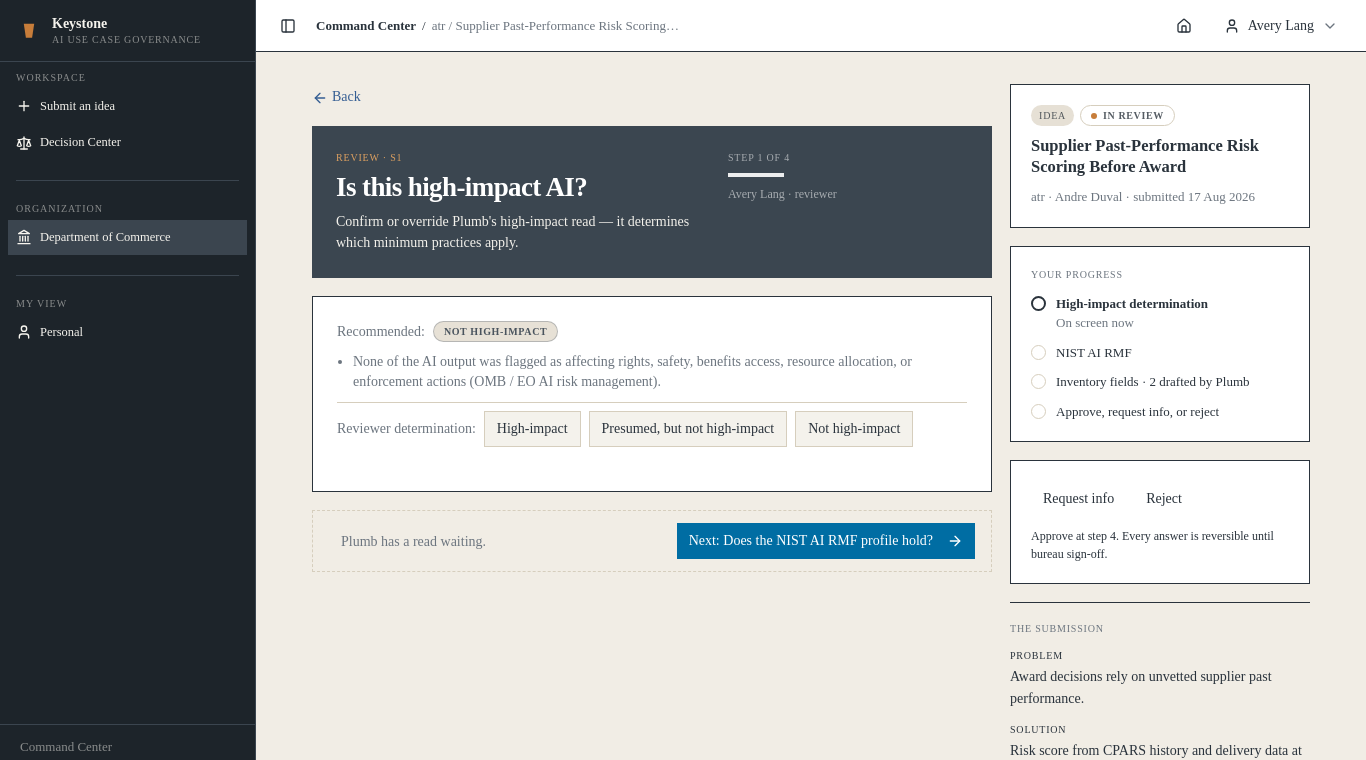
Scenario: /submissions/[id] — governance field counts (RD-8, issue #218) › counts drafted-by-Plumb fields from Plumb's live proposal, non-zero even before any reviewer save
Click the button "Inventory fields · 2 drafted by Plumb".
click(1160, 382)  # box [1031,372,1289,392]
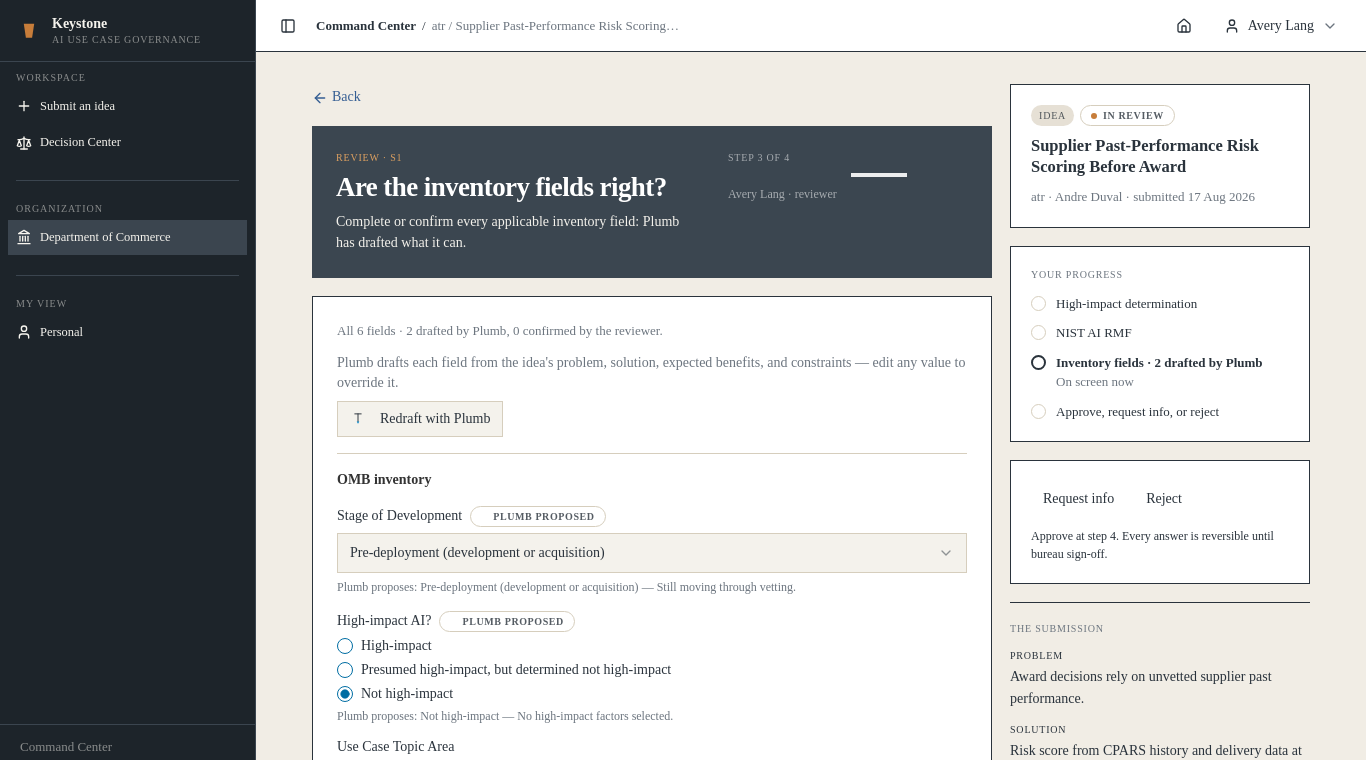
Expected: the text "Inventory fields · 2 drafted by Plumb" is shown, [1056,355,1263,370]
Result: the text "Are the inventory fields right?" is shown at [336,173,696,203]
Result: the text "2 drafted by Plumb, 0 confirmed by the reviewer" is shown at [337,323,663,338]
